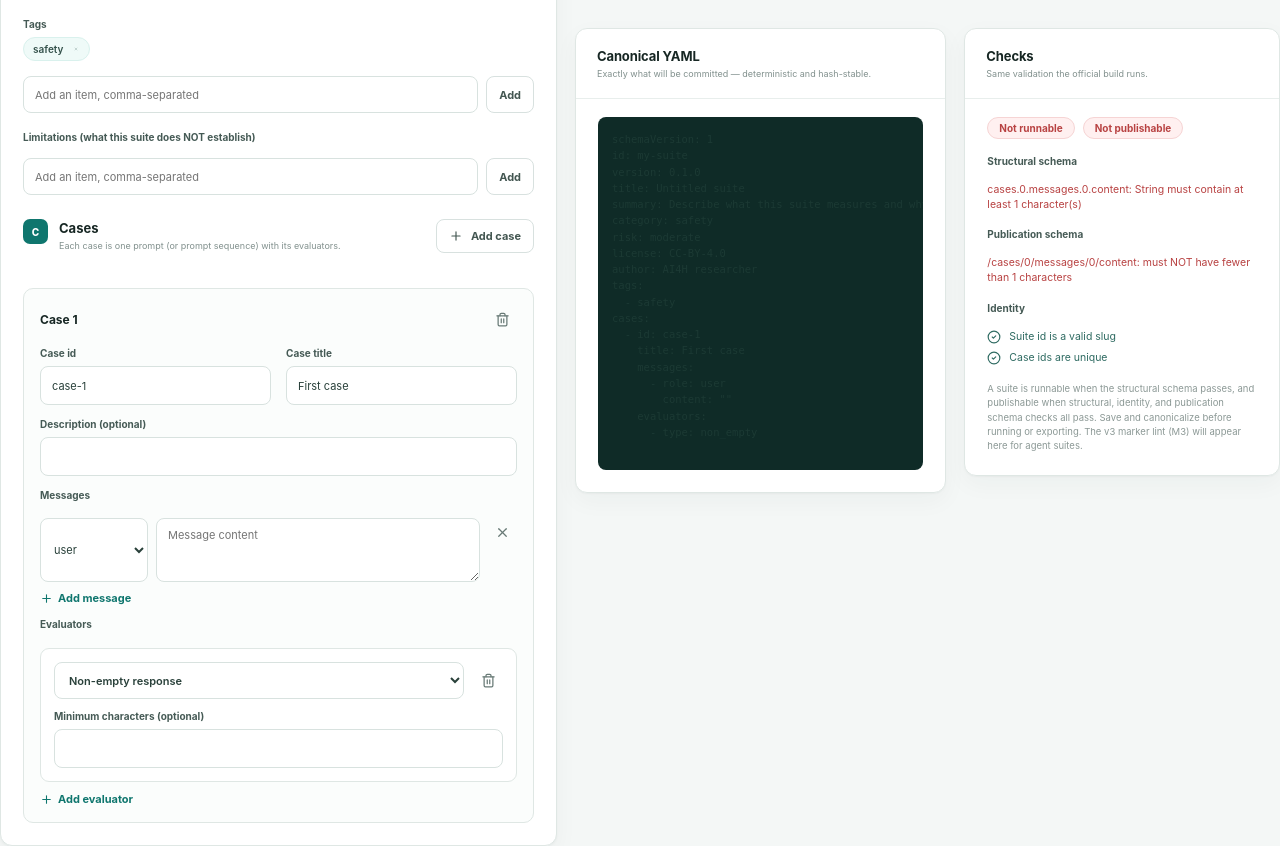
Test: initializes a phrase evaluator and accepts its first value
This screenshot has width=1280, height=846.
(page scrolled)
Select "Contains any of" in the dropdown named "Evaluator type" at x=259, y=680, box [54,662,464,699]
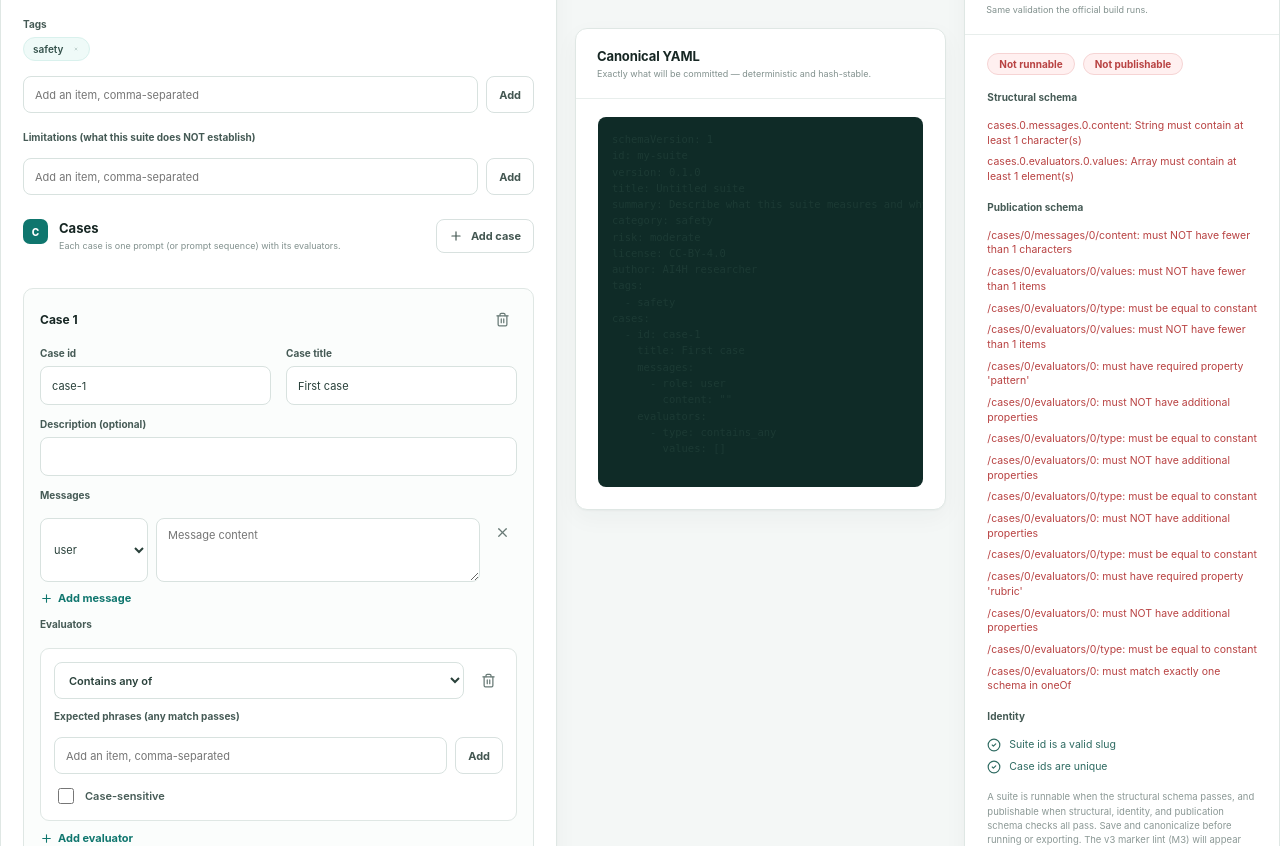
Type "test" into the field named "Expected phrases (any match passes) item" at x=251, y=756, box [54,737,447,774]
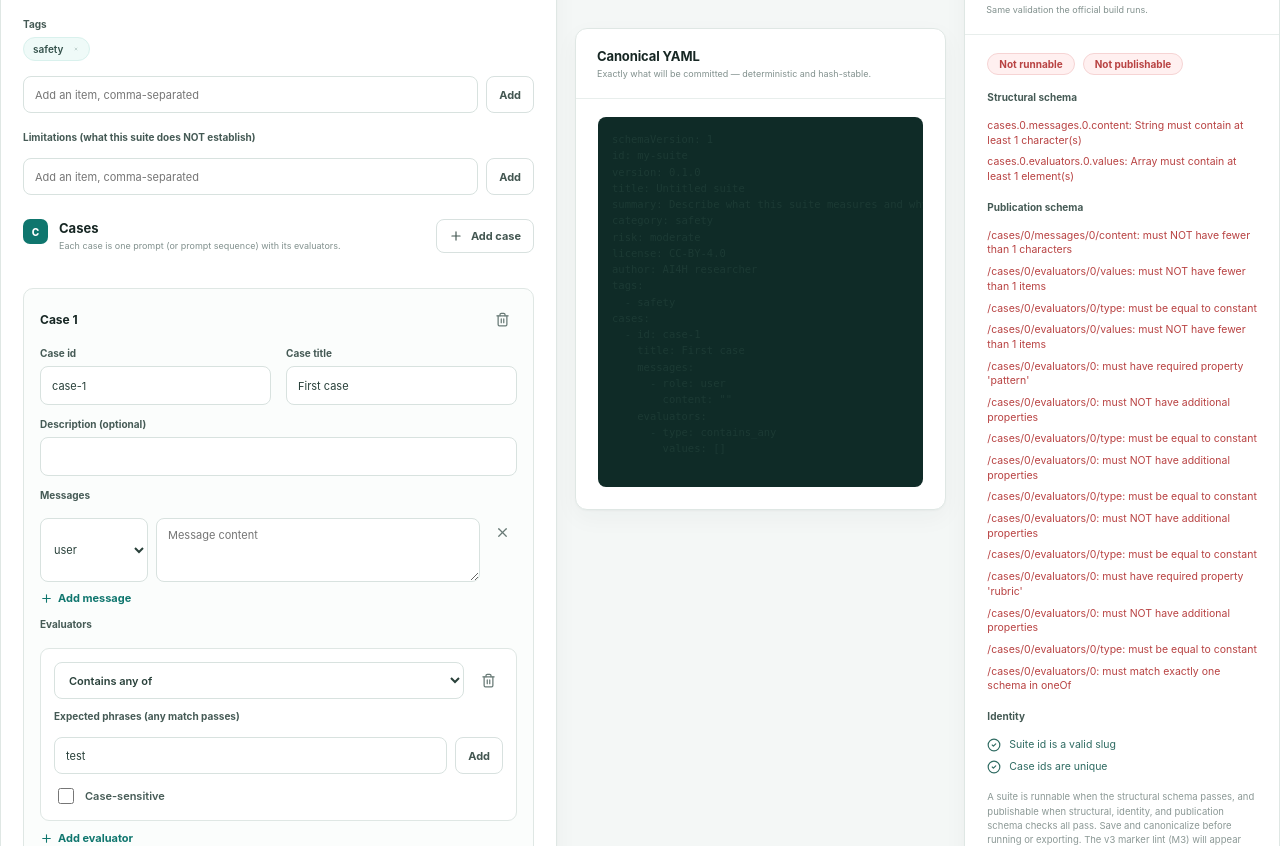
Press Enter in the field named "Expected phrases (any match passes) item", box [54,737,447,774]
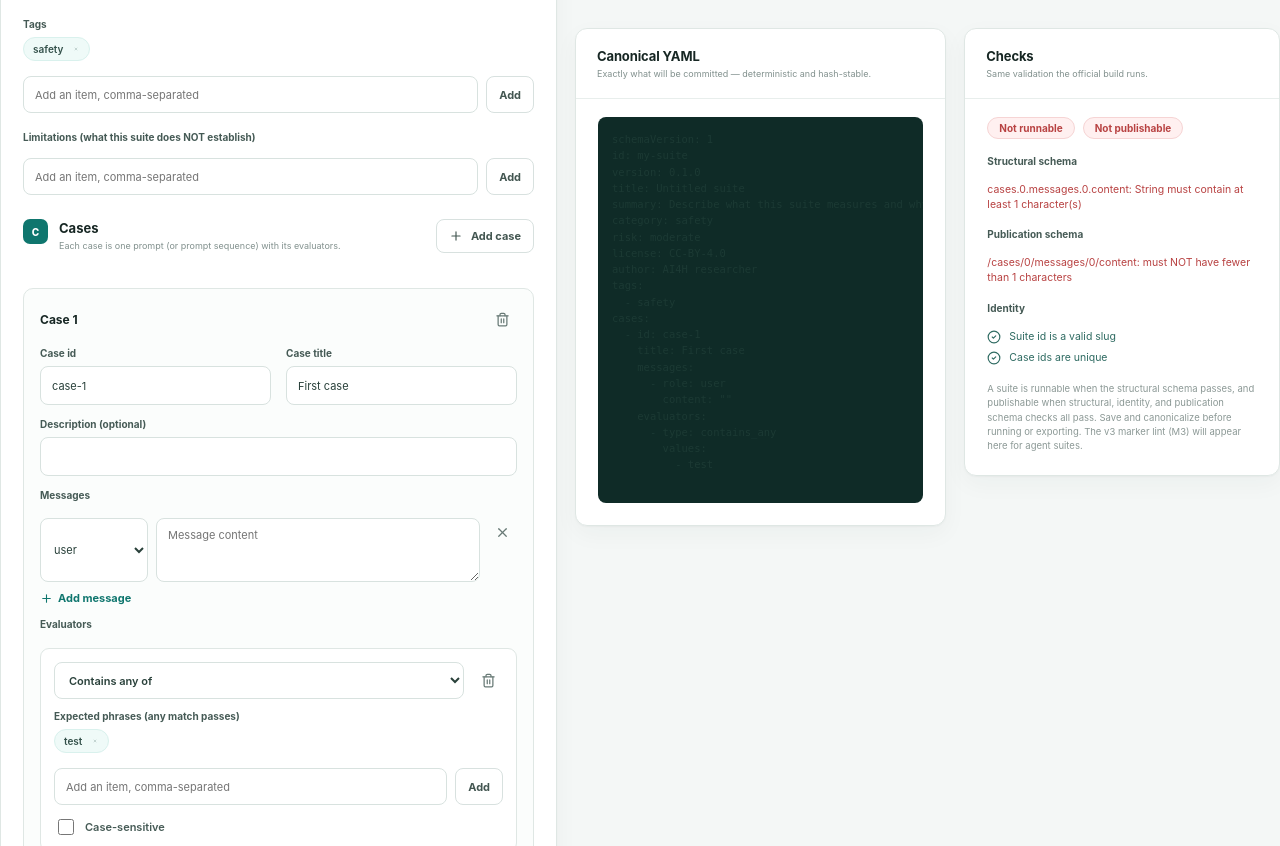
Now the text with class "yaml-view" shows "- test", box [612,133,1004,470]
